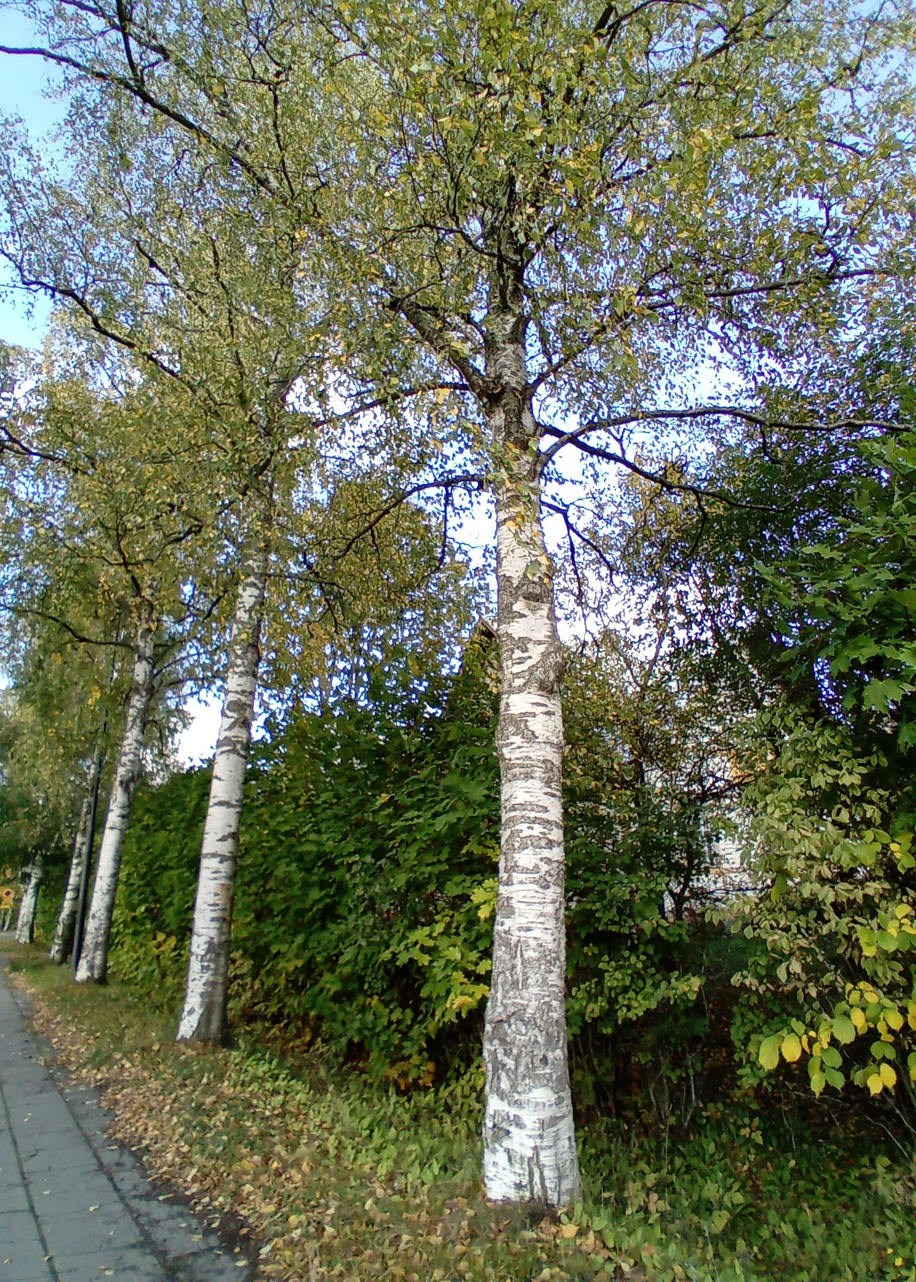Birch: (1, 1, 914, 1212), (230, 0, 828, 1212), (15, 5, 302, 1059)
